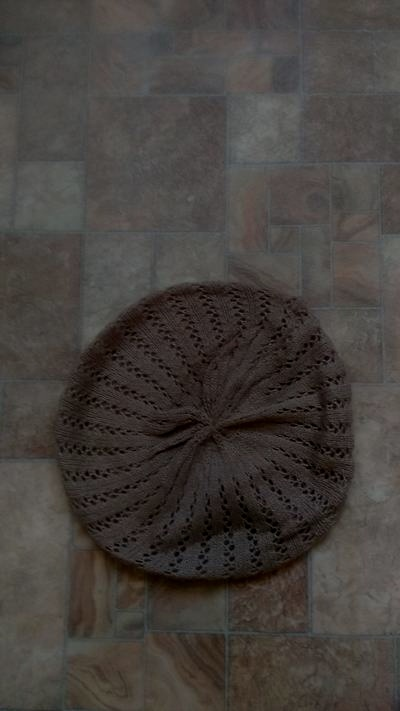Hat: (48, 260, 346, 602)
